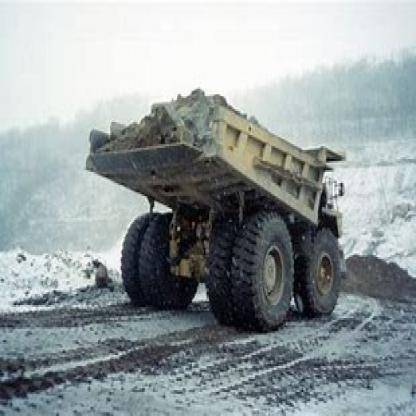dump_truck: (80, 83, 366, 335)
